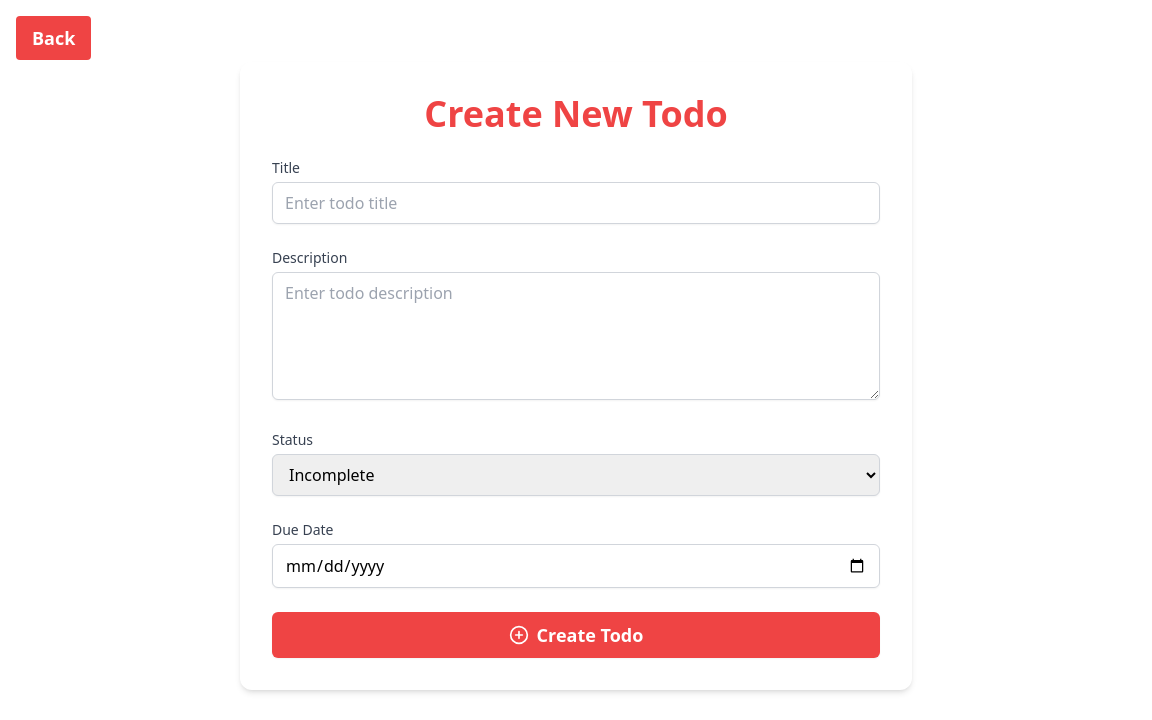
Create Component › shows error when required fields are empty
Click the button "Create Todo" at (576, 635), box 272,612 -> 880,658
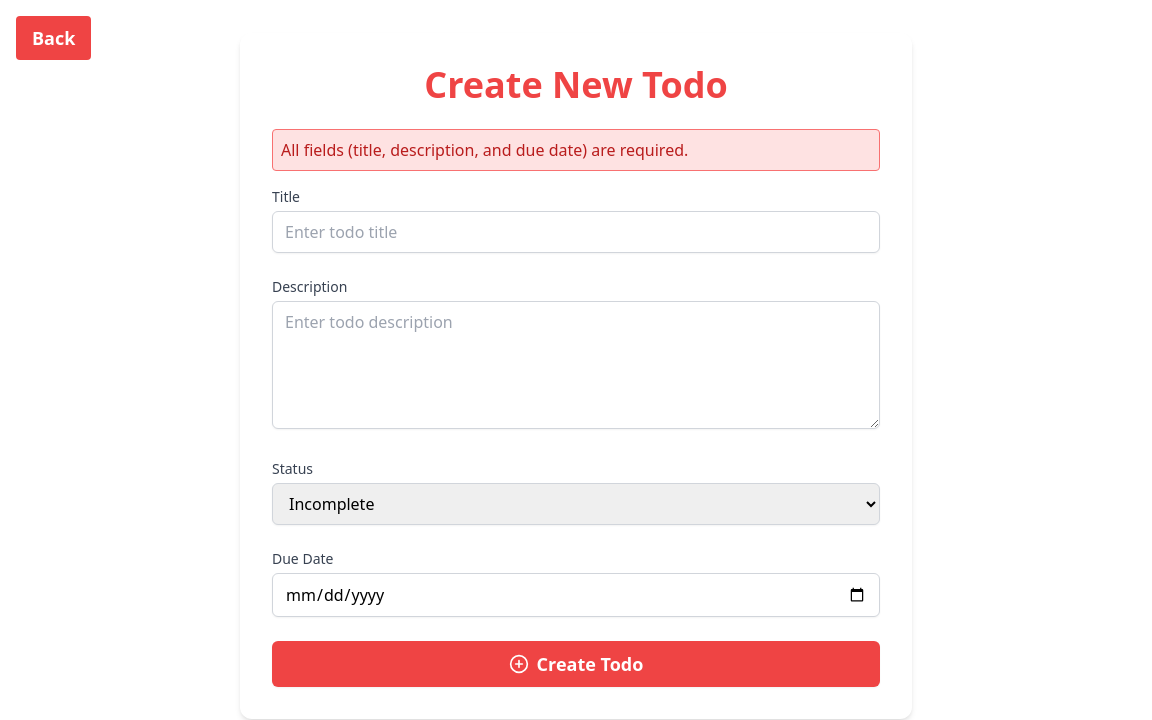
Check: the text "All fields (title, description, and due date) are required." is shown, box 272,129 -> 880,171
